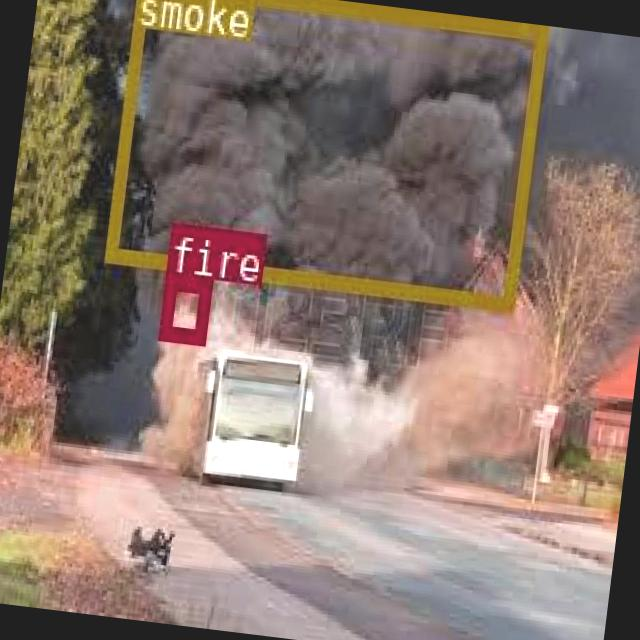fire: (157, 270, 210, 340)
smoke: (103, 0, 545, 306)
